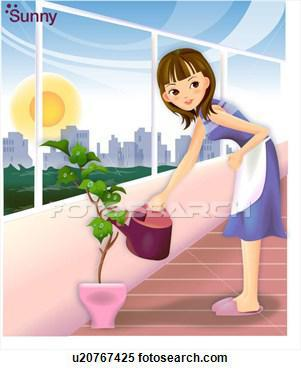person: (131, 43, 284, 325)
pottedplant: (32, 138, 126, 334)
